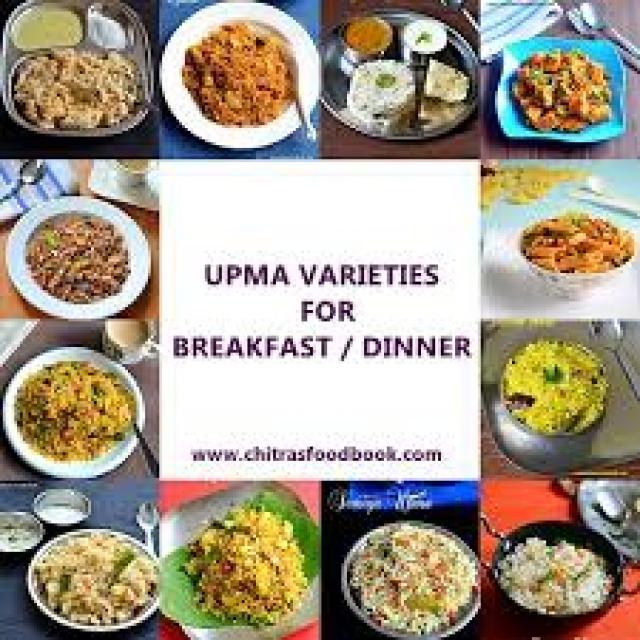POHA: (179, 503, 304, 626)
